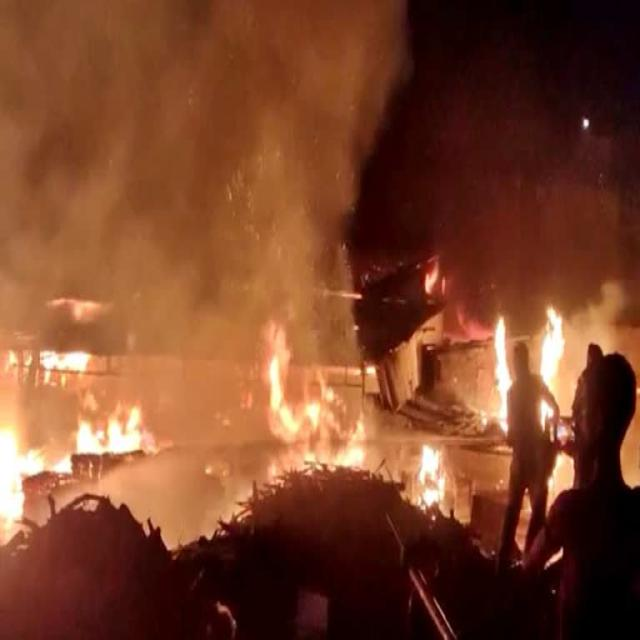fire: (0, 424, 25, 521), (541, 308, 565, 392), (496, 316, 512, 436), (419, 443, 445, 505), (337, 420, 364, 468)
